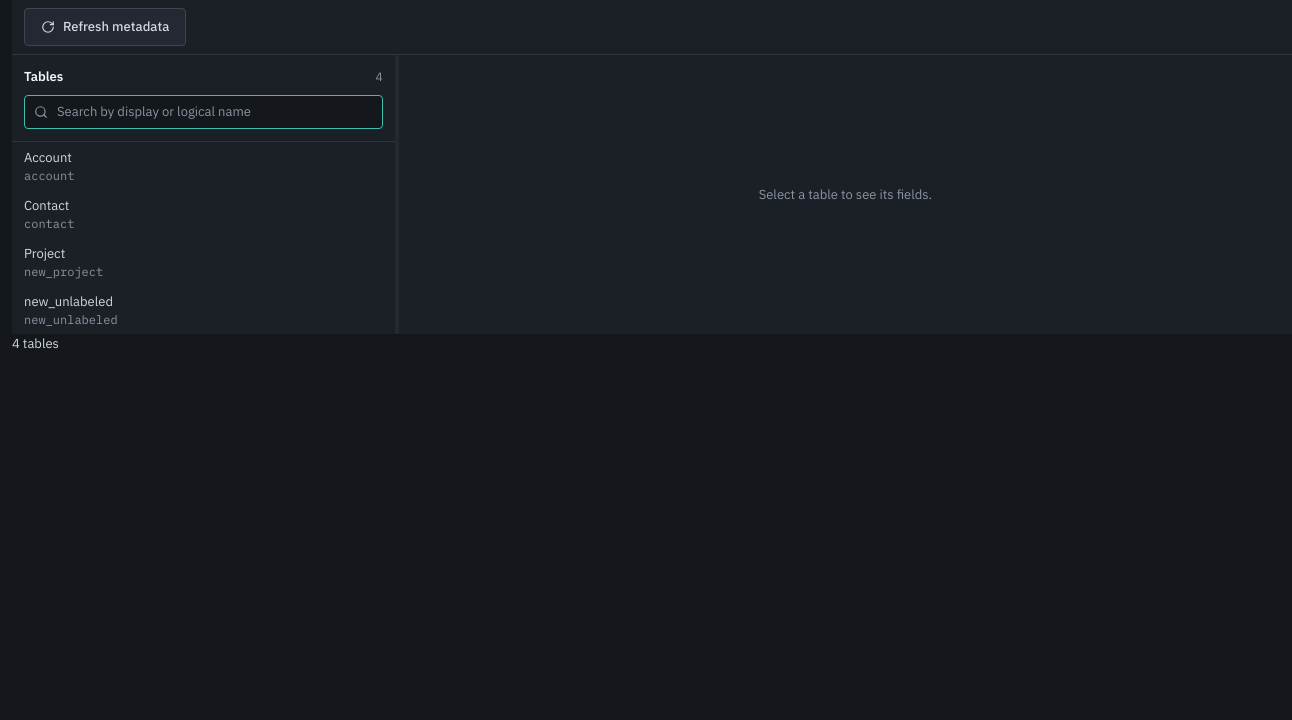
Test: Attribute Explorer › refreshes tables and fields, keeps selection and searches, and shows a toast
The width and height of the screenshot is (1292, 720).
Click the button "Account account".
click(48, 158)  # box [12, 142, 395, 190]
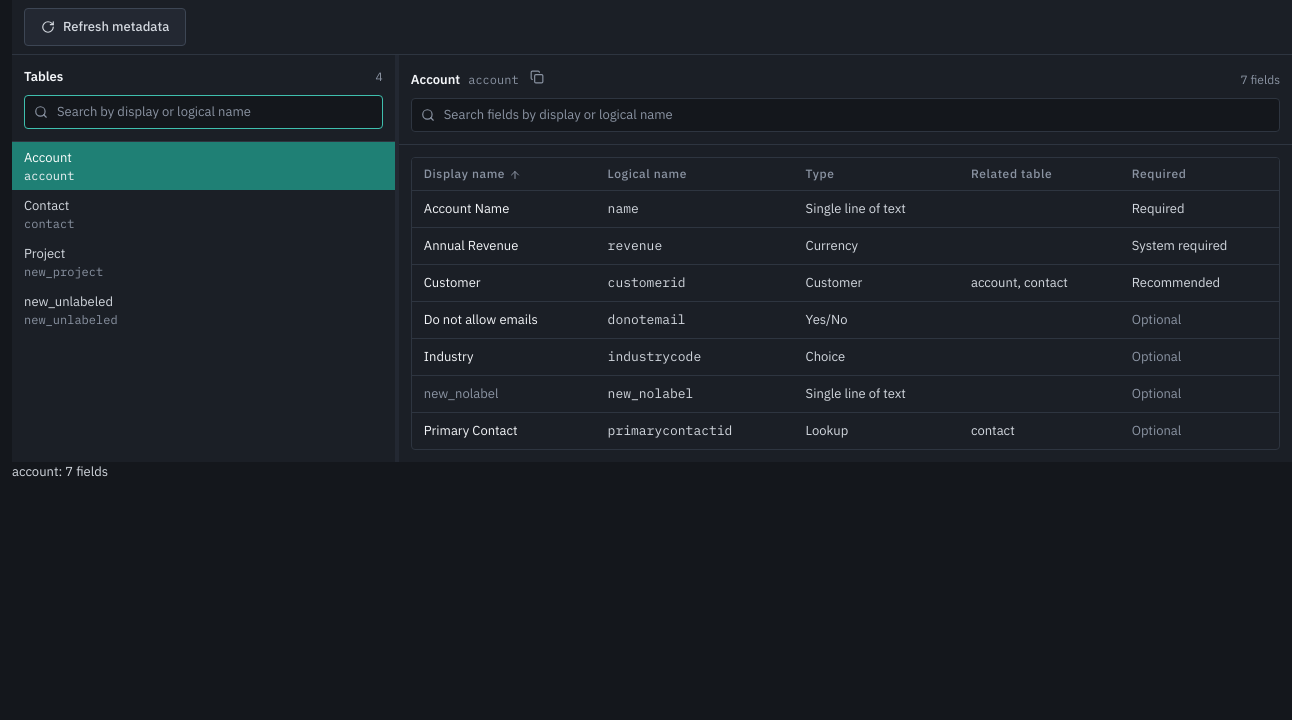
Result: the button "Account Name" is shown at [424, 199, 509, 219]
Type "acc" into the field with placeholder "Search by display or logical name".
click(203, 112); type("acc")  # box [24, 95, 383, 129]
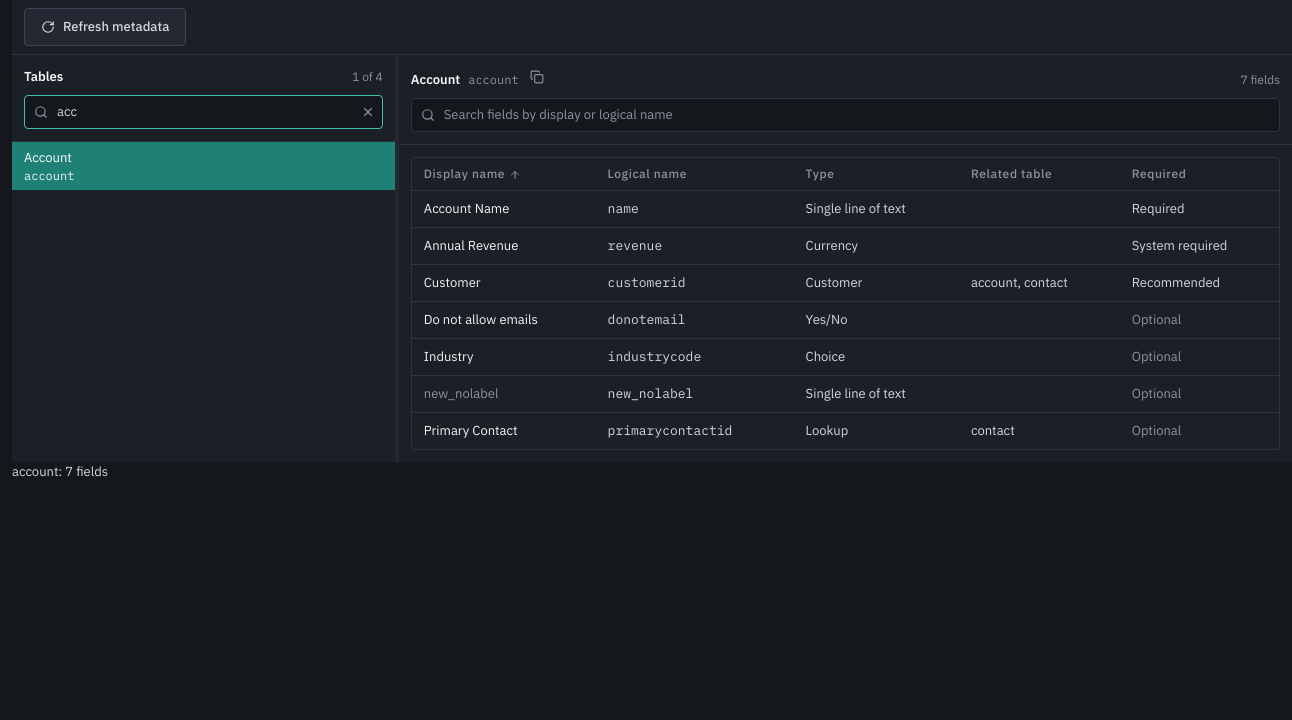
Type "revenue" into the field with placeholder "Search fields by display or logical name".
click(845, 115); type("revenue")  # box [411, 98, 1280, 132]
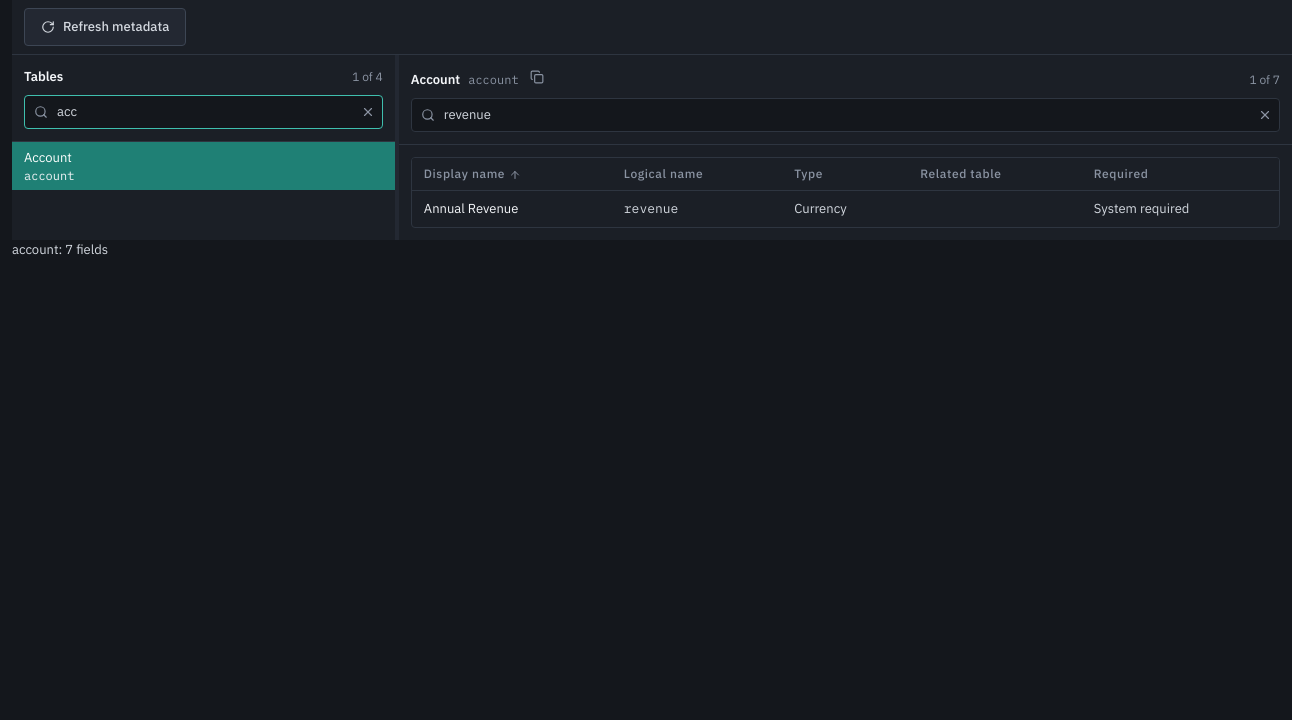
Click the button "Refresh metadata".
click(105, 27)  # box [24, 8, 186, 46]
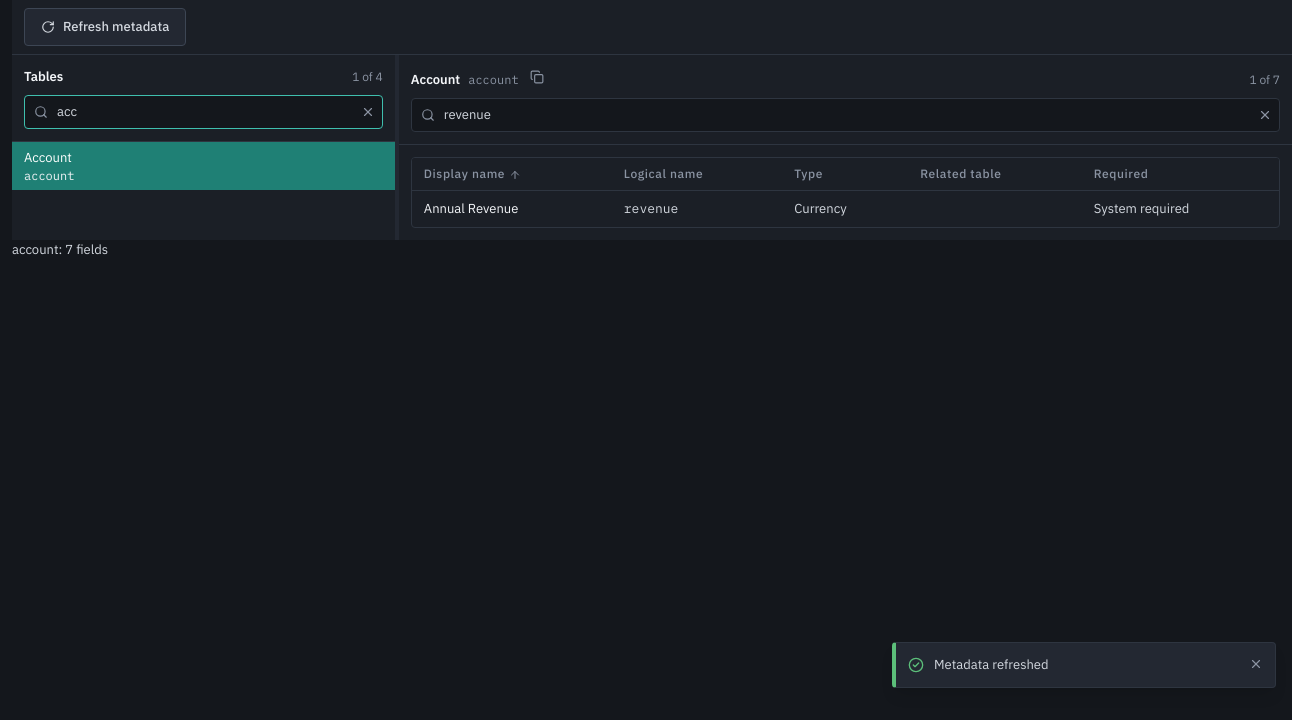
Result: the message "Metadata refreshed" is shown at [892, 642, 1276, 688]
